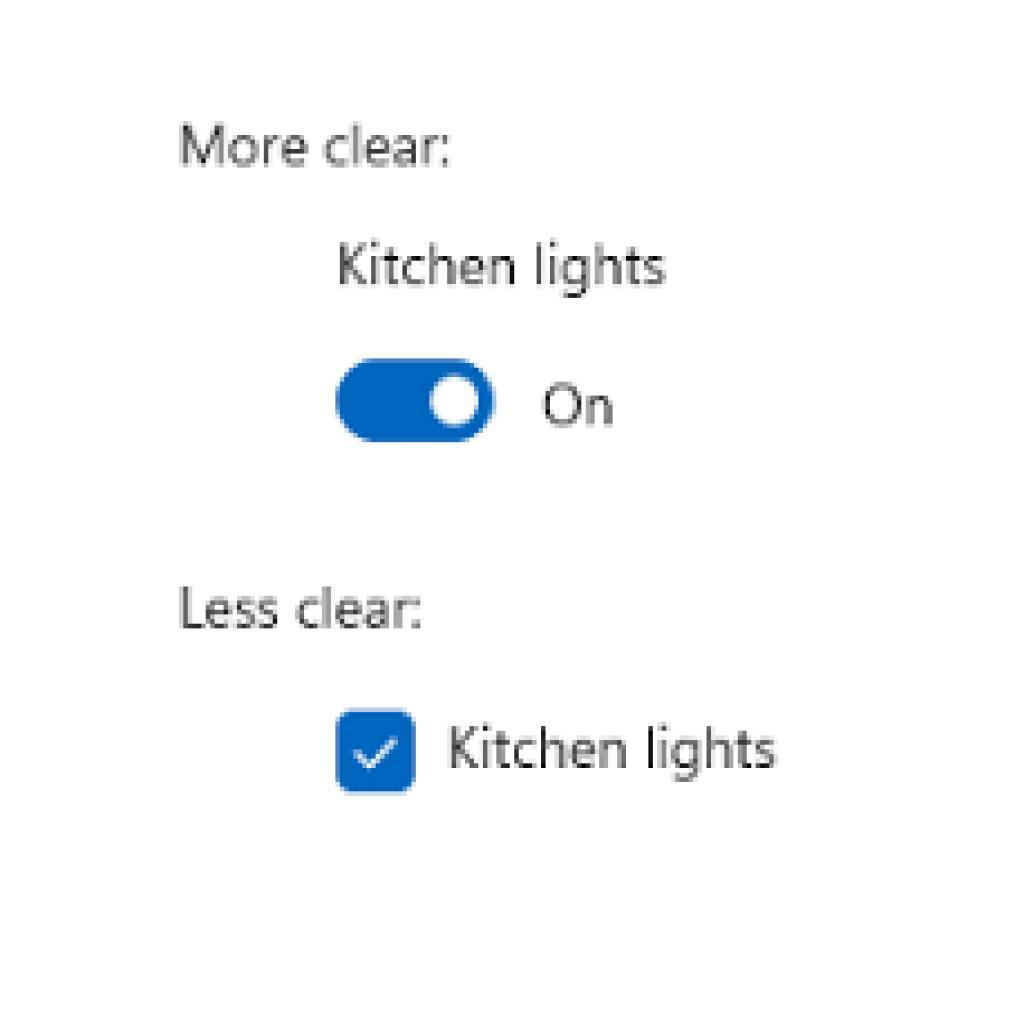checkbox: (336, 711, 415, 793)
label: (323, 234, 680, 303), (443, 716, 784, 786), (175, 112, 459, 183), (176, 576, 431, 645), (537, 379, 619, 438)
switch: (333, 349, 496, 446)
